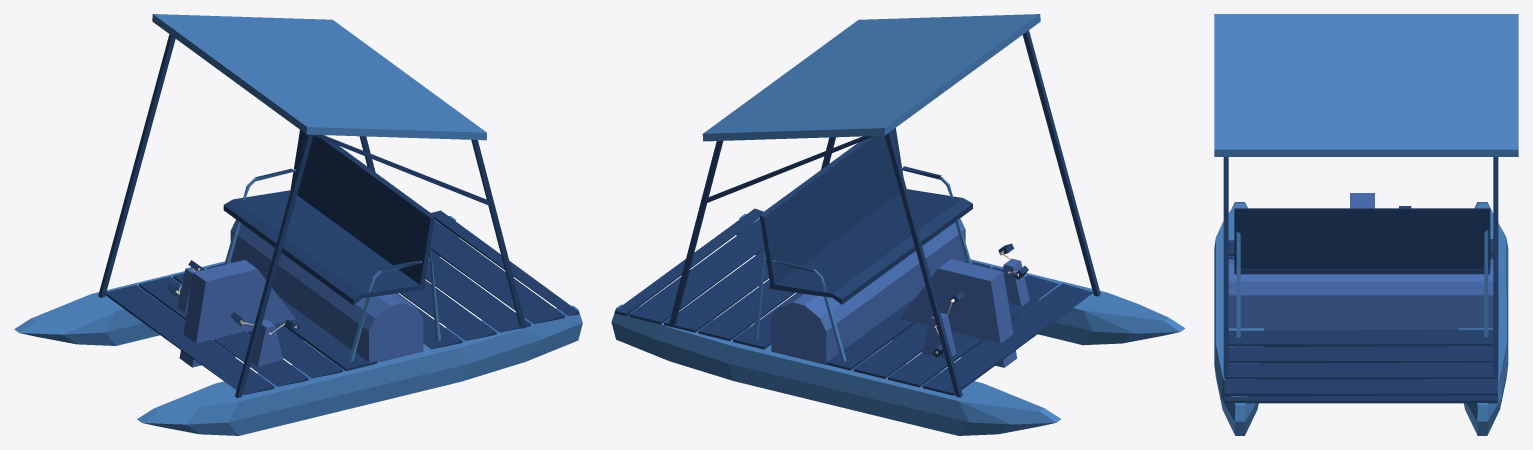
Rendered from PedalBoat_B.fbx.
3 views of the same model, side by side, from view 1: azimuth 30°, elevation 25°; view 2: azimuth 150°, elevation 25°; view 3: azimuth 270°, elevation 25° (orthographic). The views are drawn at different scales.
Visible parts, largest first — view 1: PedalBoat_B; view 2: PedalBoat_B; view 3: PedalBoat_B.
Boxes of the visible parts, x1,y1,x2,y2 form: PedalBoat_B: (14, 14, 582, 435); PedalBoat_B: (611, 14, 1185, 435); PedalBoat_B: (1214, 14, 1518, 435).
Size of the model in its own units: 268 by 171 by 163.
